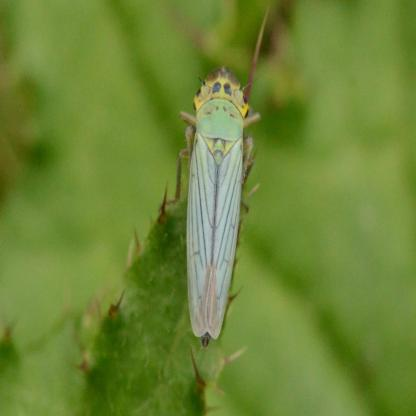Green-Leafhopper: (174, 57, 254, 342)
